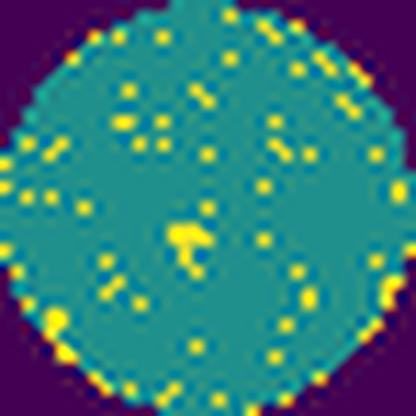Loc: (164, 219, 211, 275)
